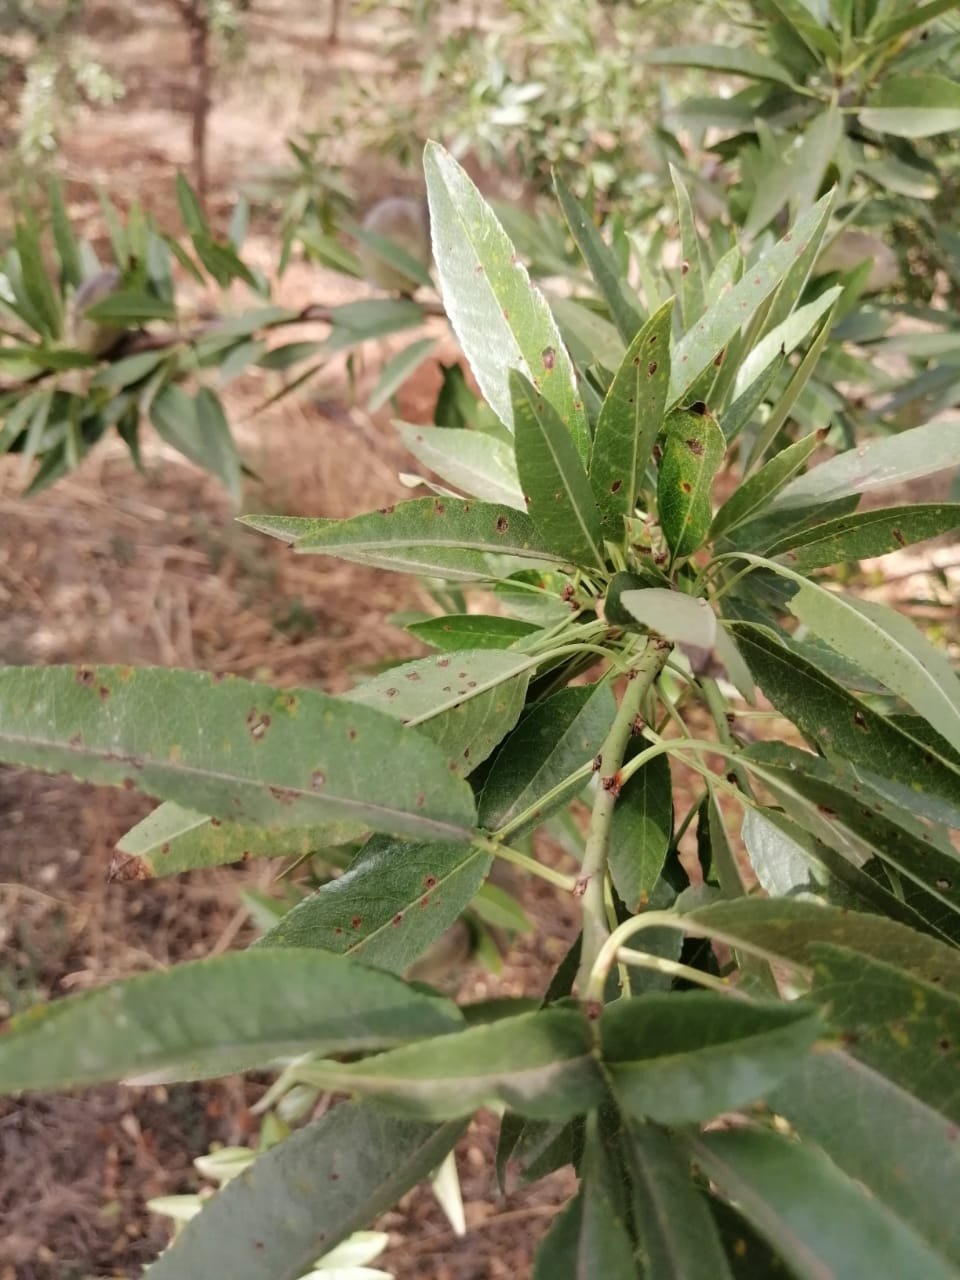coryneum: (101, 648, 545, 890), (1, 658, 482, 846), (421, 135, 594, 475), (284, 494, 560, 577), (588, 298, 684, 529), (657, 398, 730, 558)
